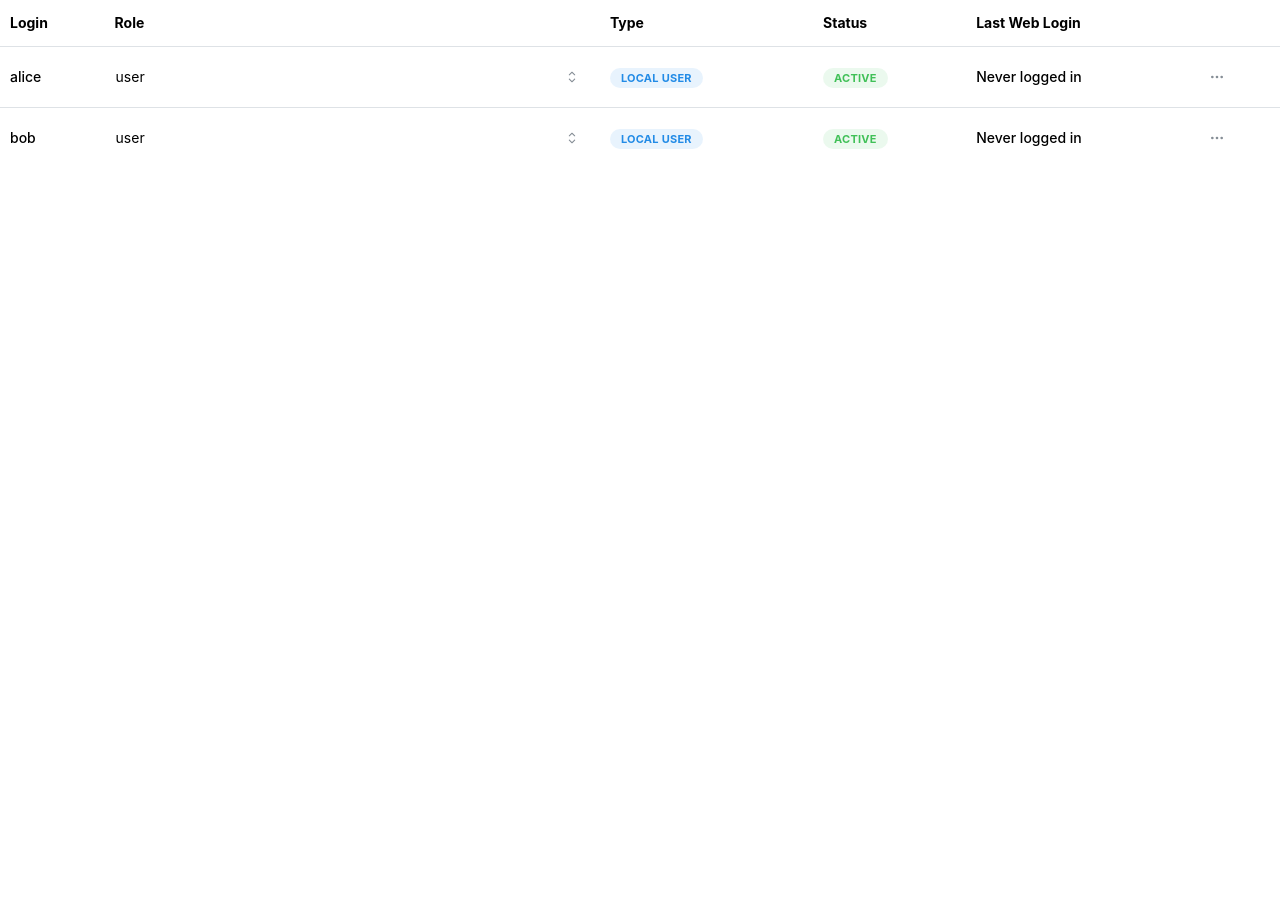
Test case: ListUsers › change password modal › does not reuse the password typed for another user
Click the button without text in the row of "alice". click: click(1217, 77)
box: [1203,63,1231,91]
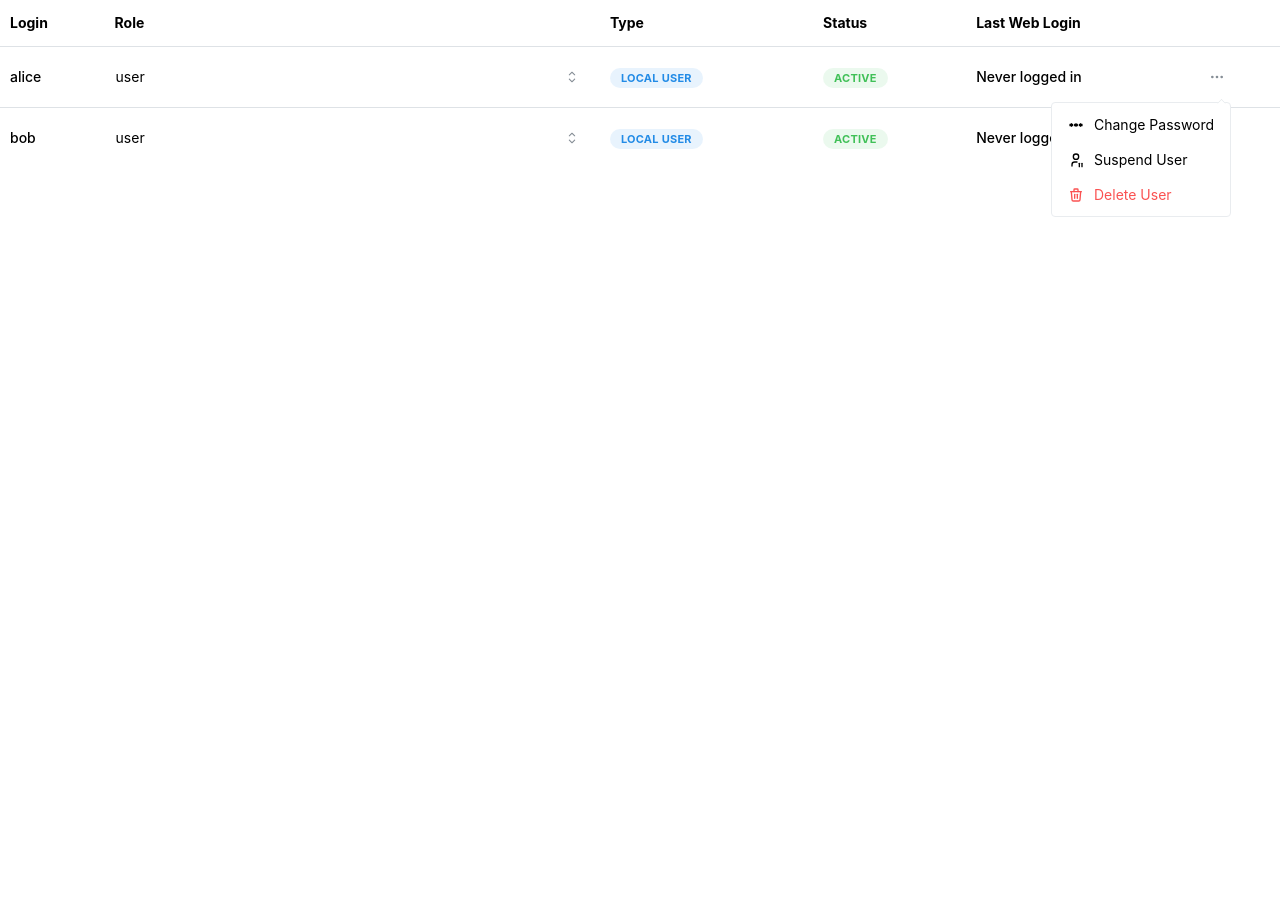
Click the menu item "Change Password". click: click(1141, 125)
box: [1056,107,1226,142]
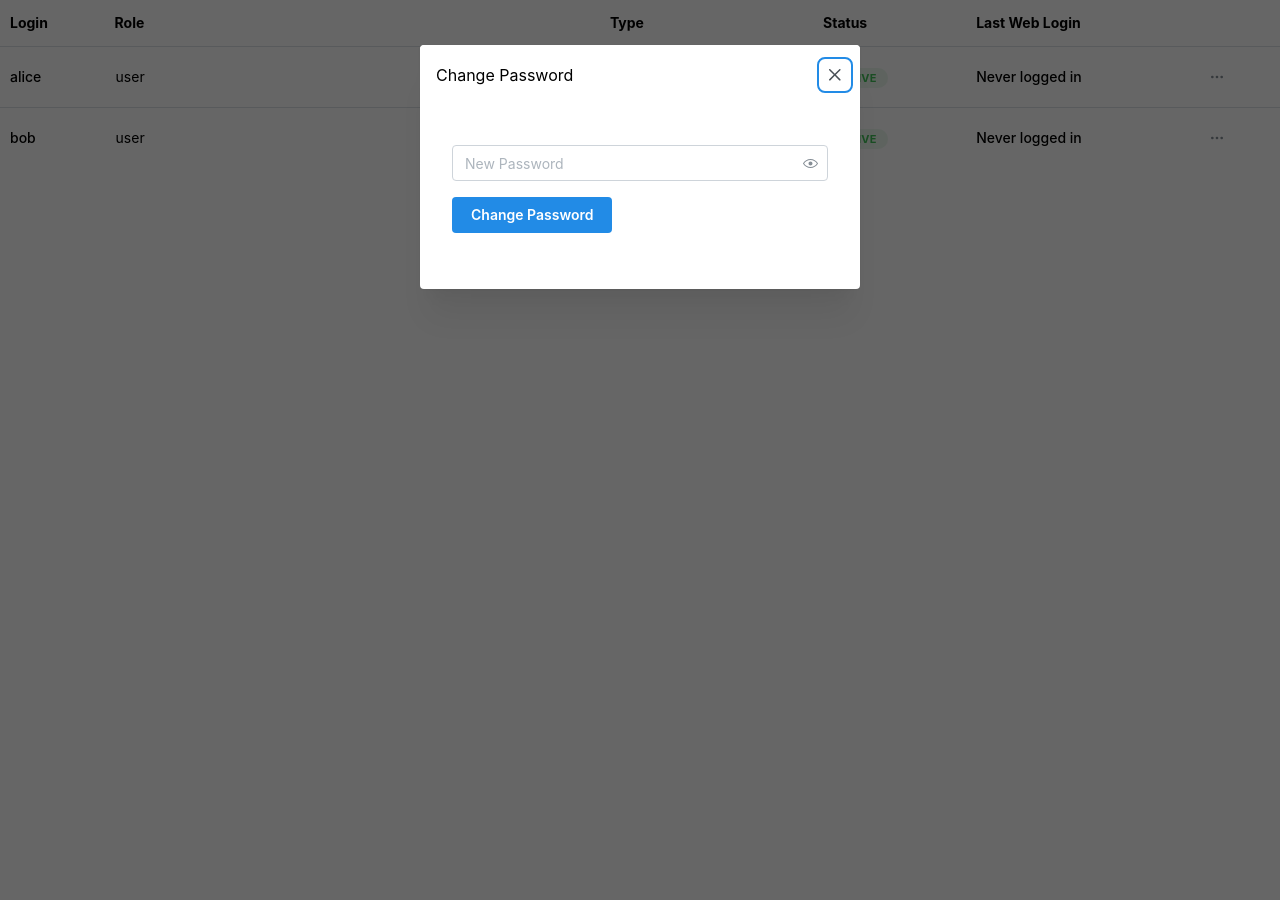
Type "secret-for-alice1!" into the password field with placeholder "New Password". click: (640, 163)
box: [453,146,827,180]
Press Escape
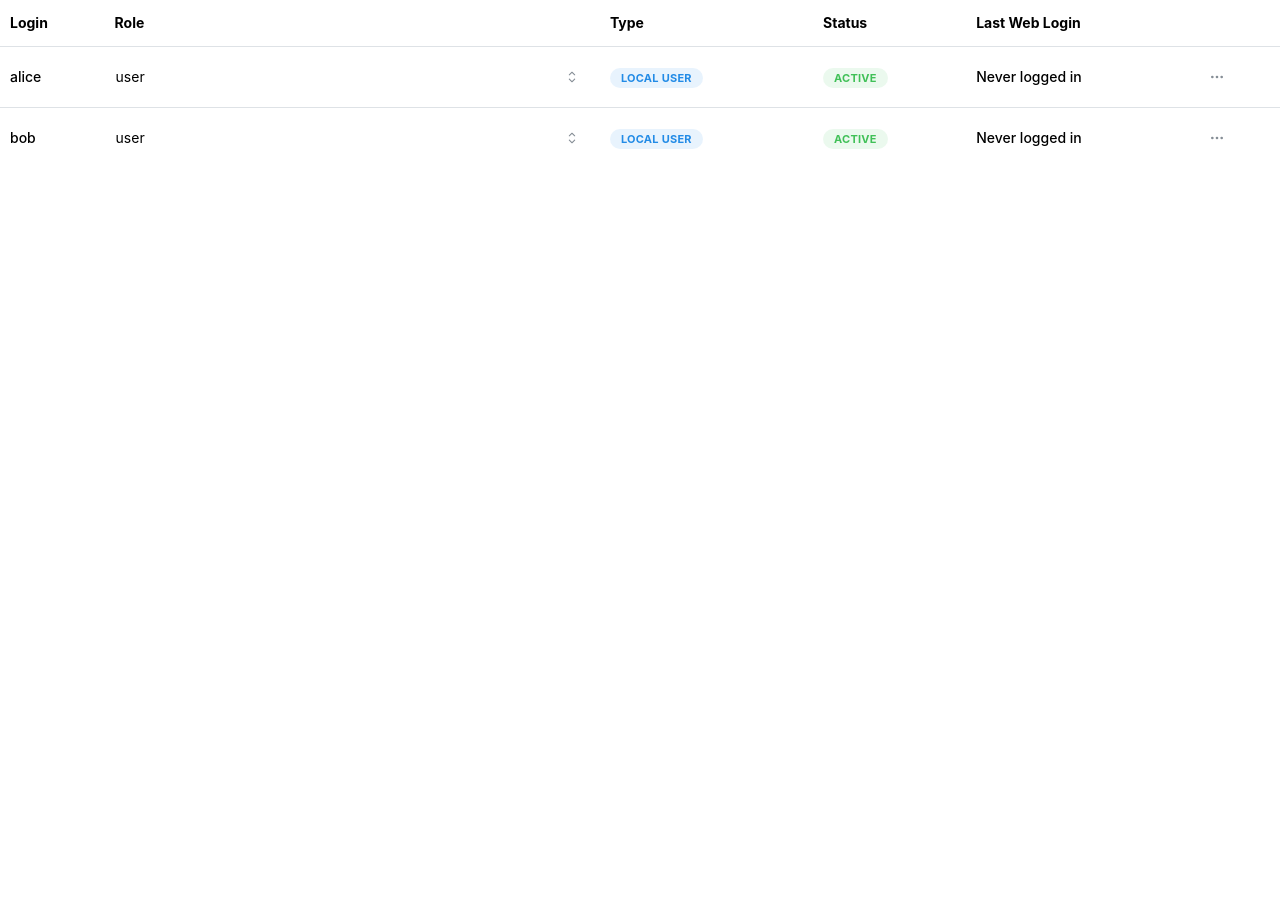
Check: the password field with placeholder "New Password" is gone
Click the button without text in the row of "bob". click: click(1217, 138)
box: [1203,124,1231,152]
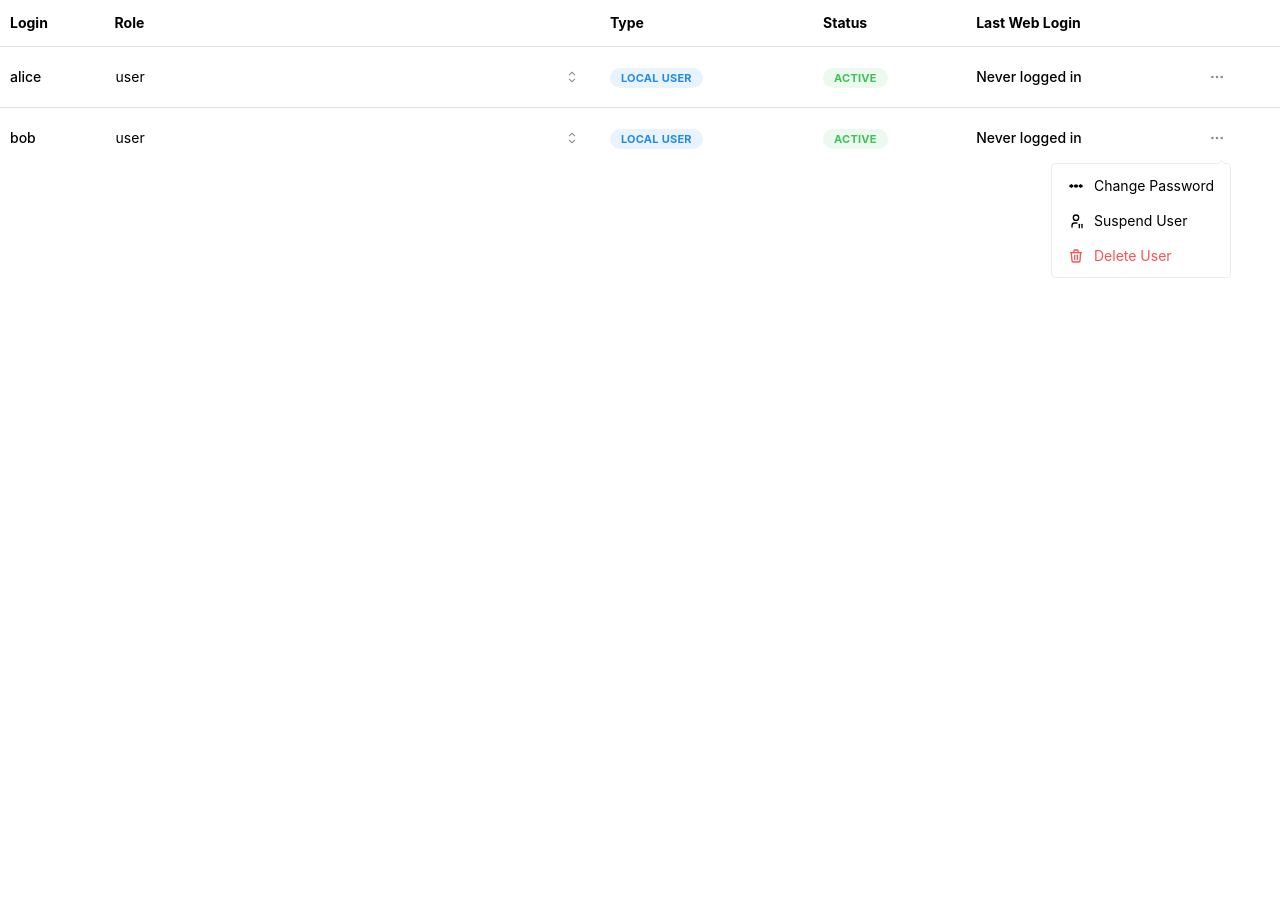
Click the menu item "Change Password". click: click(1141, 186)
box: [1056,168,1226,203]
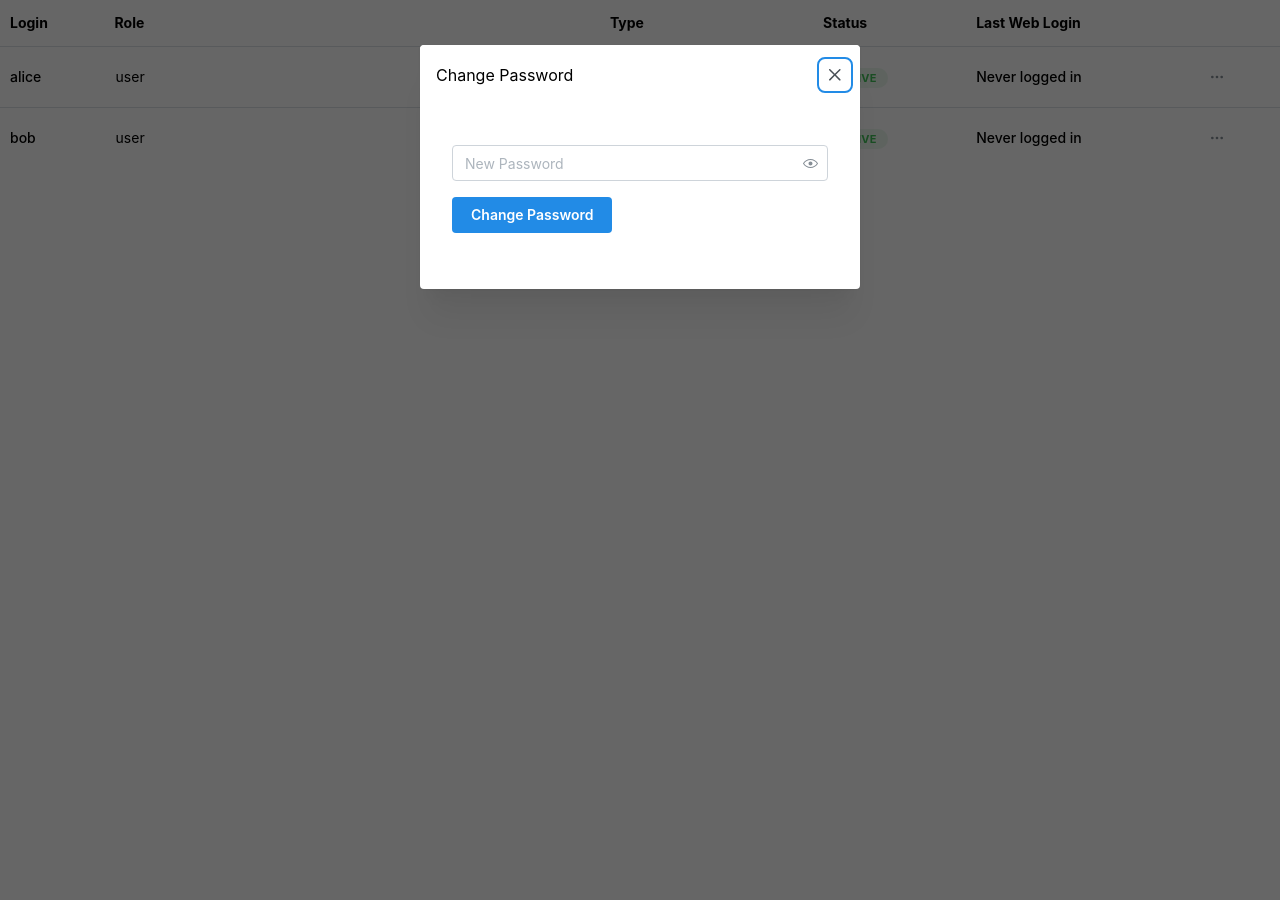
Check: the password field with placeholder "New Password" is empty, box [453,146,827,180]
Click the button "Change Password". click: click(532, 215)
box: [452,197,612,233]
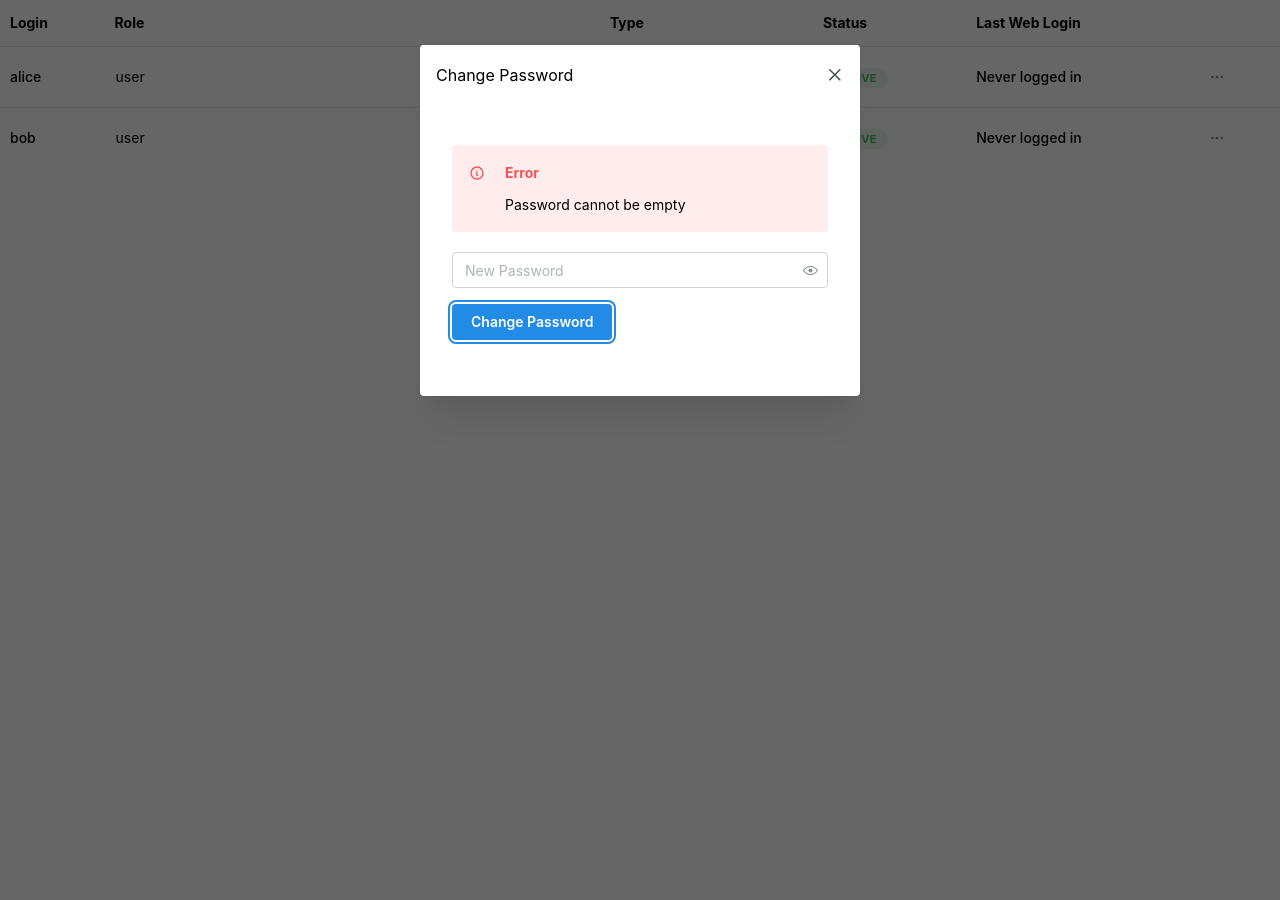
Check: the text "Password cannot be empty" is shown, box [505,196,686,213]
